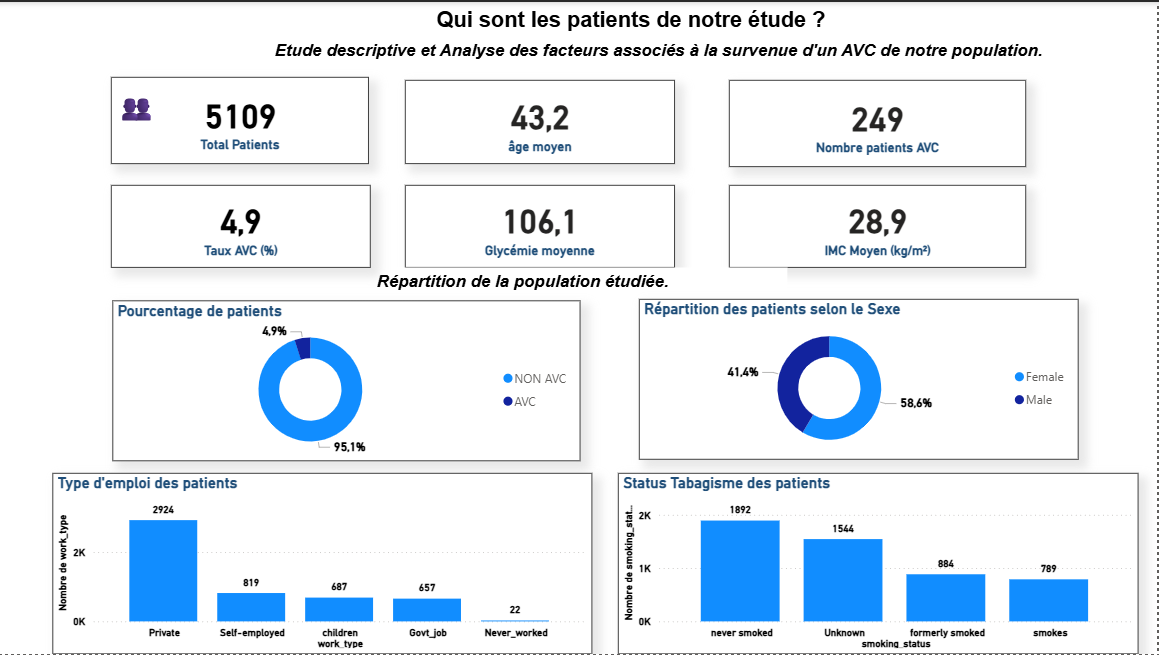

The page's visual inventory and layout, read from the dashboard file:
{"tool":"powerbi","page":{"name":"Vue d'ensemble de la population étudiée","canvas":[1280,720],"ordinal":1},"visuals":[{"type":"textbox","box":[480.4,0,535,43.1],"z":0},{"type":"textbox","box":[301.5,38.1,892.8,36.4],"z":1000},{"type":"card","fields":{"Values":["Patients.âge moyen"]},"box":[450.6,86.1,298.2,92.8],"z":2000},{"type":"card","fields":{"Values":["Avg(Patients.avg_glucose_level)"]},"box":[450.6,202.1,298.2,91.1],"z":3000},{"type":"card","fields":{"Values":["Patients.IMC moyen"]},"box":[808.4,202.1,328,91.1],"z":4000},{"type":"textbox","box":[414.1,293.2,458.8,36.4],"z":5000},{"type":"donutChart","title":"Pourcentage de patients ","fields":{"Category":["Patients.Statut AVC"],"Y":["CountNonNull(Patients.Statut AVC)"]},"box":[127.5,329.6,516.8,177.2],"z":6000},{"type":"donutChart","title":"Répartition des patients selon le Sexe","fields":{"Y":["CountNonNull(Patients.gender)"],"Category":["Patients.gender"]},"box":[709,328,485.3,177.2],"z":7000},{"type":"columnChart","title":"Type d''emploi des patients","fields":{"Category":["Patients.work_type"],"Y":["CountNonNull(Patients.work_type)"]},"box":[62.1,520,595.7,199.9],"z":8000},{"type":"columnChart","title":"Status Tabagisme des patients","fields":{"Category":["Patients.smoking_status"],"Y":["CountNonNull(Patients.smoking_status)"]},"box":[685,520,574.4,199.9],"z":9000},{"type":"card","fields":{"Values":["Patients.Total Patients"]},"box":[125.9,82.8,284.9,96.1],"z":10000},{"type":"card","fields":{"Values":["Patients.Nombre patients AVC"]},"box":[808.4,86.1,328,96.1],"z":11000},{"type":"card","fields":{"Values":["Patients.Taux AVC"]},"box":[125.9,202.1,286.6,91.1],"z":12000},{"type":"textbox","box":[127.5,86.1,58,61.3],"z":13000}]}

Visuals, with their boxes in screenshot pixels (x1, y1, x2, y2), scaled from the page's 1280x720 canvas onto the 1159x655 screenshot:
textbox: 435:0:919:39
textbox: 273:35:1081:68
card - Patients.âge moyen: 408:78:678:163
card - Avg(Patients.avg_glucose_level): 408:184:678:267
card - Patients.IMC moyen: 732:184:1029:267
textbox: 375:267:790:300
"Pourcentage de patients " donutChart: 115:300:583:461
"Répartition des patients selon le Sexe" donutChart: 642:298:1081:460
"Type d''emploi des patients" columnChart: 56:473:596:654
"Status Tabagisme des patients" columnChart: 620:473:1140:654
card - Patients.Total Patients: 114:75:372:163
card - Patients.Nombre patients AVC: 732:78:1029:166
card - Patients.Taux AVC: 114:184:374:267
textbox: 115:78:168:134
